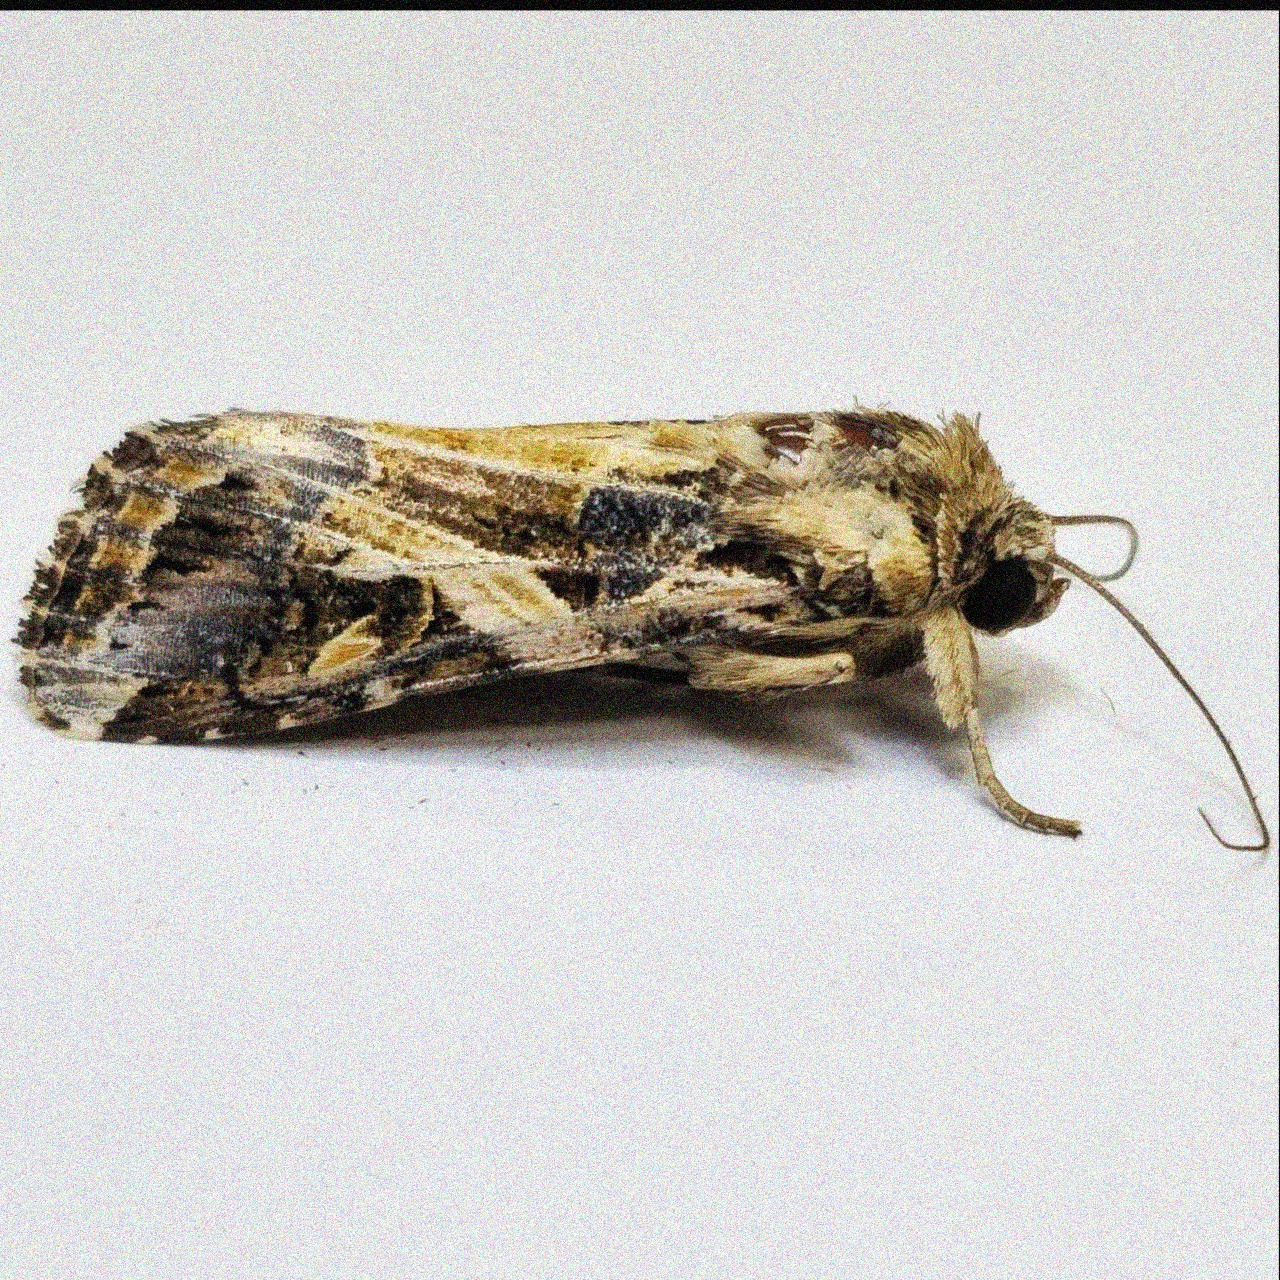Spodoptera litura: (9, 393, 1269, 853)
